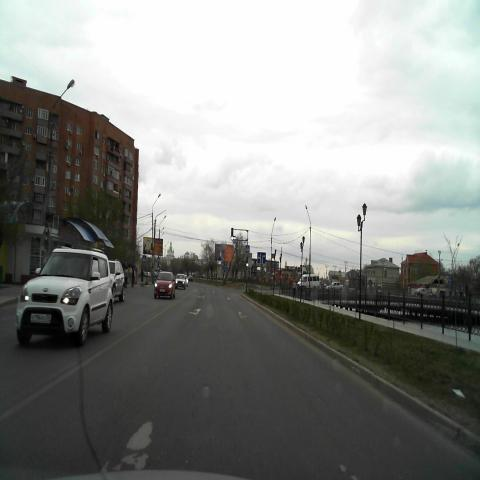5_15_2_2: (257, 252, 266, 264)
